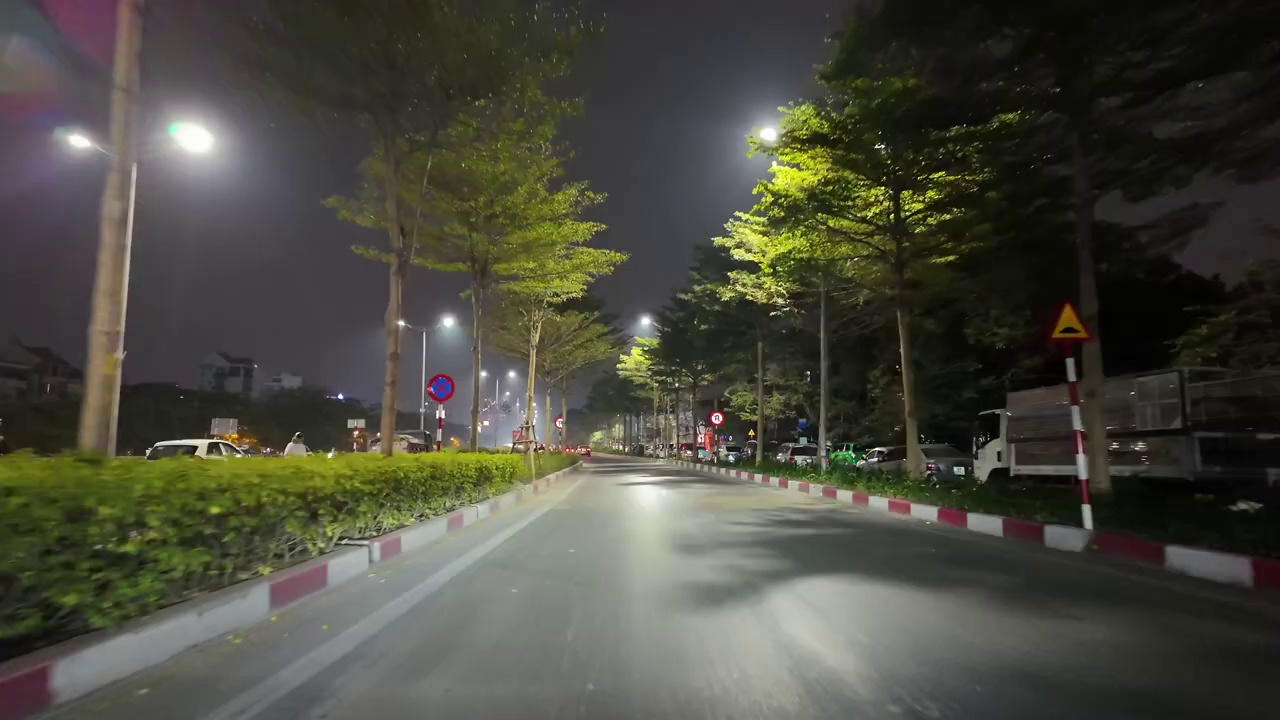acesa: (164, 117, 215, 160), (62, 127, 99, 157), (435, 314, 462, 339), (633, 314, 658, 338)
